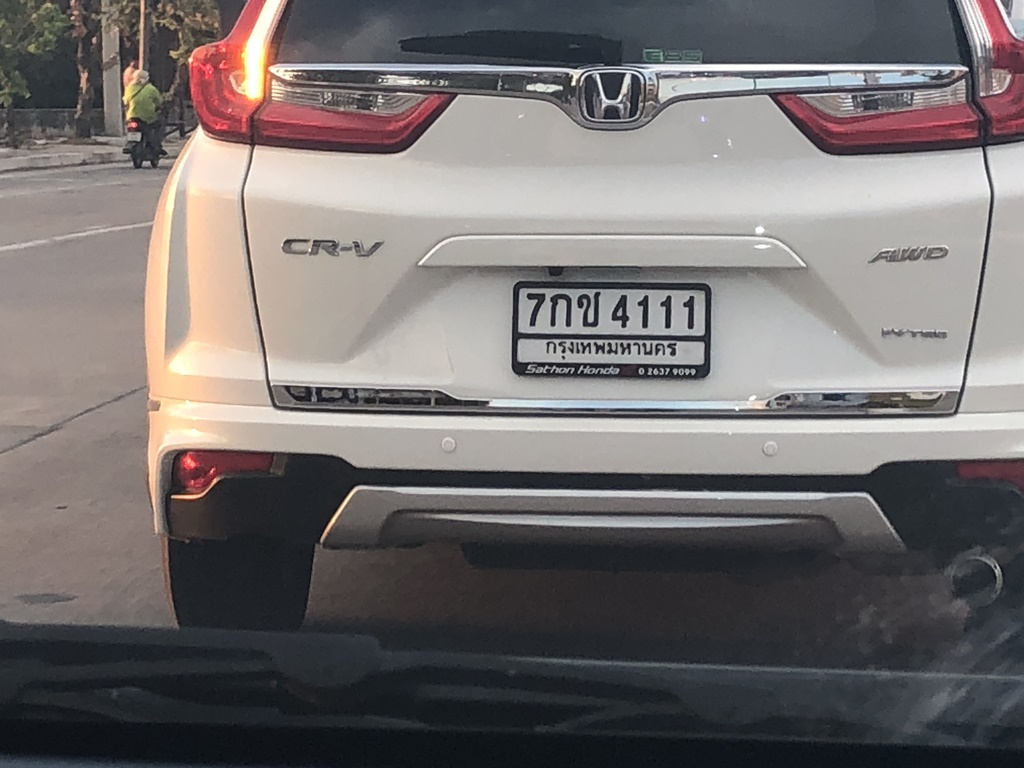four: (605, 284, 635, 340)
one: (677, 287, 707, 344), (632, 281, 655, 340)
seven: (513, 284, 548, 337)
